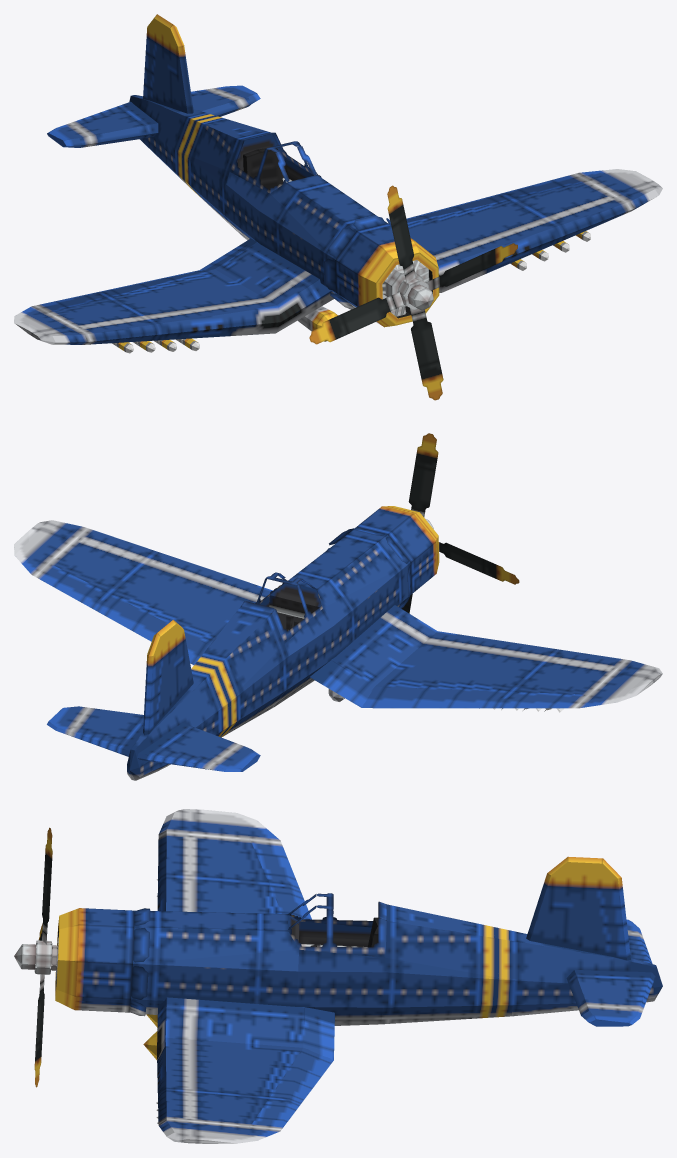
Rendered from aircraft_corsair.fbx.
The picture shows the model from 3 angles, top to bottom: view 1: azimuth 30°, elevation 25°; view 2: azimuth 150°, elevation 25°; view 3: azimuth 270°, elevation 25°; orthographic projection. The views are drawn at different scales.
Parts seen in each view (by area): view 1: Main, NoseCone, Missiles; view 2: Main, NoseCone; view 3: Main, NoseCone.
Boxes of the visible parts, bbox=[...] form: Main: bbox=[14, 14, 662, 344]; NoseCone: bbox=[309, 185, 517, 400]; Missiles: bbox=[112, 231, 590, 353]; Main: bbox=[14, 506, 662, 780]; NoseCone: bbox=[402, 433, 519, 613]; Main: bbox=[55, 809, 662, 1143]; NoseCone: bbox=[14, 827, 57, 1087].
Size of the model in its own units: 6.21 by 5.15 by 2.12.
